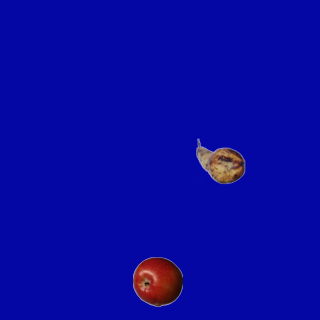Apple Braeburn: (132, 256, 182, 306)
Pear Abate: (195, 136, 245, 186)
